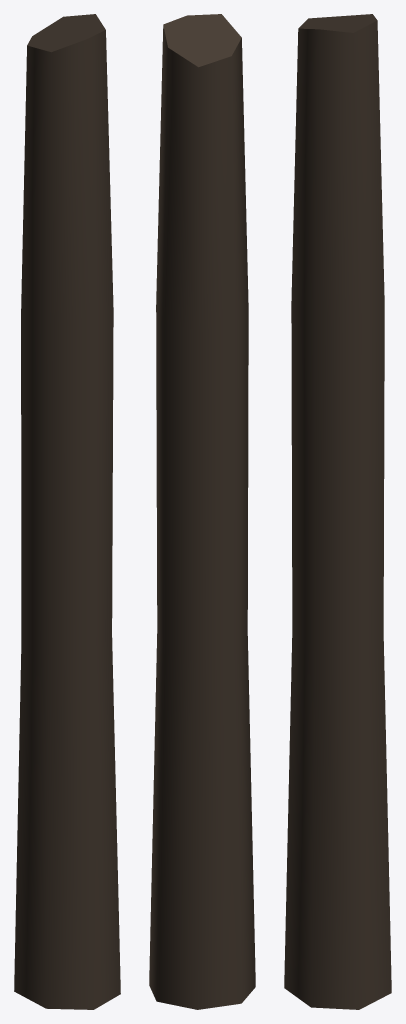
Rendered from pier-stump-2.glb.
The picture shows the model from 3 angles, left to right: view 1: azimuth 30°, elevation 25°; view 2: azimuth 150°, elevation 25°; view 3: azimuth 330°, elevation 25°; orthographic projection.
Parts seen in each view (by area): view 1: pier-stump-2; view 2: pier-stump-2; view 3: pier-stump-2.
Boxes of the visible parts, x1,y1,x2,y2 form: pier-stump-2: (14,14,120,1009); pier-stump-2: (149,14,255,1009); pier-stump-2: (284,14,391,1009).
Size of the model in its own units: 0.4075 by 4.07 by 0.398.
